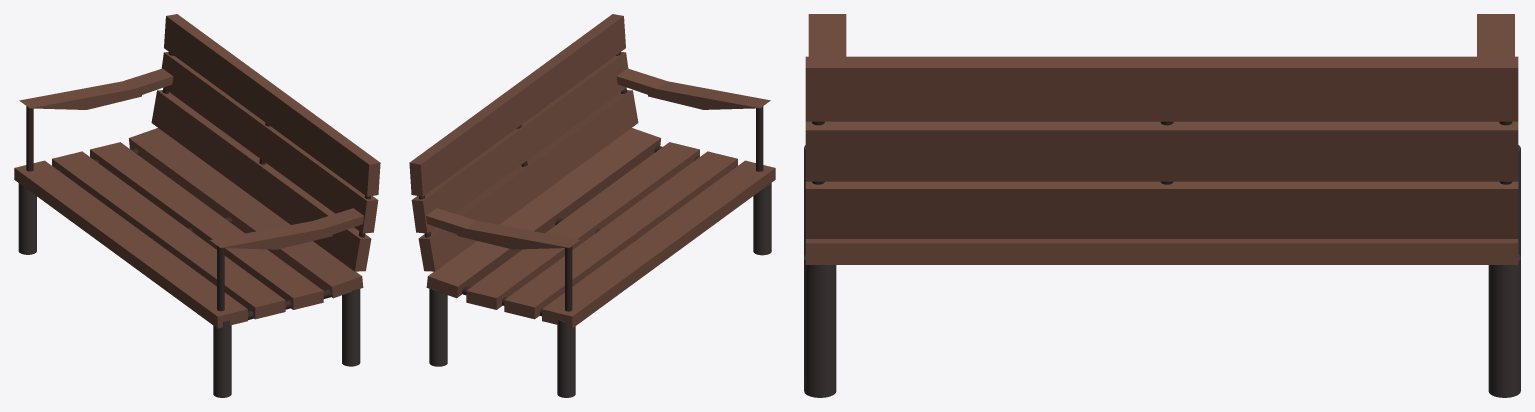
The model's file is utibench.fbx.
The picture shows the model from 3 angles, left to right: view 1: azimuth 30°, elevation 25°; view 2: azimuth 150°, elevation 25°; view 3: azimuth 270°, elevation 25°; orthographic projection. The views are drawn at different scales.
Parts seen in each view (by area): view 1: pasted__pasted__pasted__pCube1 (×2), pasted__pasted__pasted__pasted__pasted__pCube1, pCube1, pasted__pasted__pasted__pasted__pCube1, pasted__pCube1, pasted__pasted__pCube1, pasted__pCube2 (×2), pasted__pasted__pCube2, pasted__pCylinder1, pCylinder1, pasted__pasted__pasted__pCylinder1, pCube2 (+2 smaller); view 2: pasted__pasted__pasted__pCube1 (×2), pasted__pasted__pasted__pasted__pasted__pCube1, pCube1, pasted__pasted__pasted__pasted__pCube1, pasted__pCube1, pasted__pasted__pCube1, pasted__pCube2 (×2), pasted__pasted__pCube2, pasted__pasted__pCylinder1, pasted__pasted__pasted__pCylinder1, pCylinder1, pCube2 (+2 smaller); view 3: pasted__pasted__pasted__pCube1 (×2), pasted__pasted__pasted__pasted__pasted__pCube1, pasted__pasted__pasted__pasted__pCube1, pasted__pasted__pCylinder1, pasted__pCylinder1, pasted__pasted__pCube2, pasted__pCube2.
Part boxes in pixels (<box>): pasted__pasted__pasted__pCube1 (×2): <box>129,90,371,298</box>; pasted__pasted__pasted__pasted__pasted__pCube1: <box>164,14,380,196</box>; pCube1: <box>14,160,247,328</box>; pasted__pasted__pasted__pasted__pCube1: <box>161,52,378,233</box>; pasted__pCube1: <box>52,151,285,319</box>; pasted__pasted__pCube1: <box>90,142,323,309</box>; pasted__pCube2 (×2): <box>19,81,363,239</box>; pasted__pasted__pCube2: <box>210,221,332,249</box>; pasted__pCylinder1: <box>342,289,360,366</box>; pCylinder1: <box>213,320,231,397</box>; pasted__pasted__pasted__pCylinder1: <box>18,183,36,254</box>; pCube2: <box>122,68,173,99</box>; pasted__pasted__pasted__pCube1 (×2): <box>418,90,660,298</box>; pasted__pasted__pasted__pasted__pasted__pCube1: <box>409,14,625,196</box>; pCube1: <box>542,160,775,328</box>; pasted__pasted__pasted__pasted__pCube1: <box>411,52,628,233</box>; pasted__pCube1: <box>504,151,737,319</box>; pasted__pasted__pCube1: <box>466,142,699,309</box>; pasted__pCube2 (×2): <box>457,68,667,249</box>; pasted__pasted__pCube2: <box>648,81,770,109</box>; pasted__pasted__pCylinder1: <box>429,288,447,366</box>; pasted__pasted__pasted__pCylinder1: <box>557,320,575,397</box>; pCylinder1: <box>753,183,771,255</box>; pCube2: <box>426,208,476,239</box>; pasted__pasted__pasted__pCube1 (×2): <box>805,181,1518,264</box>; pasted__pasted__pasted__pasted__pasted__pCube1: <box>805,56,1518,121</box>; pasted__pasted__pasted__pasted__pCube1: <box>805,121,1518,181</box>; pasted__pasted__pCylinder1: <box>1488,254,1520,397</box>; pasted__pCylinder1: <box>804,255,836,397</box>; pasted__pasted__pCube2: <box>808,14,846,56</box>; pasted__pCube2: <box>1477,14,1514,56</box>.
Bounding box in the file's own units: 3.82 × 4.42 × 8.29.
